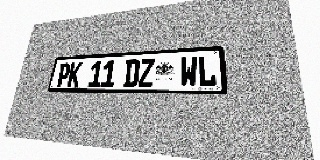1: (100, 60, 117, 87), (88, 61, 104, 87)
D: (123, 59, 140, 87)
K: (67, 62, 83, 87)
L: (198, 55, 217, 87)
P: (56, 63, 71, 87)
W: (180, 56, 197, 87)
Z: (138, 58, 155, 87)
